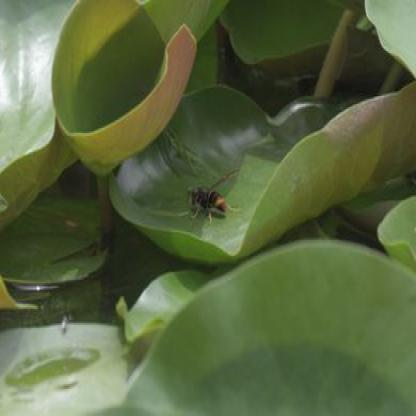Asian Hornet: (185, 174, 242, 229)
